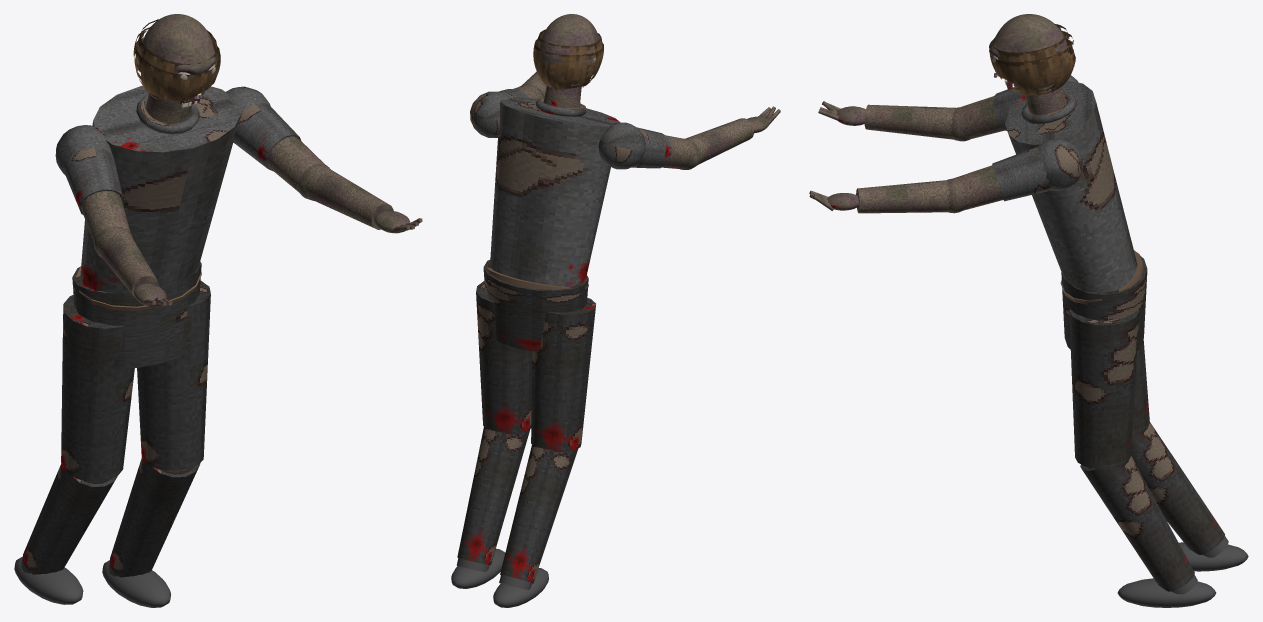
File: Zombie_113.glb
3 renders of one model, left to right at view 1: azimuth 30°, elevation 25°; view 2: azimuth 150°, elevation 25°; view 3: azimuth 270°, elevation 25°, orthographic. The views are drawn at different scales.
Visible parts, largest first — view 1: Zombie_113, object 16, object 10, object 41, object 3, object 40, object 11; view 2: Zombie_113, object 16, object 41, object 3, object 40; view 3: Zombie_113, object 10, object 3, object 16, object 41, object 40.
Part boxes in pixels (left/top/right/bottom): Zombie_113: left=14, top=85, right=324, bottom=607; object 16: left=140, top=14, right=216, bottom=103; object 10: left=305, top=167, right=393, bottom=229; object 41: left=133, top=27, right=220, bottom=102; object 3: left=97, top=229, right=159, bottom=297; object 40: left=135, top=19, right=218, bottom=98; object 11: left=374, top=211, right=410, bottom=233; Zombie_113: left=451, top=83, right=695, bottom=607; object 16: left=539, top=14, right=600, bottom=83; object 41: left=533, top=39, right=603, bottom=90; object 3: left=685, top=118, right=753, bottom=164; object 40: left=535, top=29, right=602, bottom=88; Zombie_113: left=953, top=75, right=1248, bottom=607; object 10: left=856, top=180, right=950, bottom=213; object 3: left=864, top=104, right=955, bottom=139; object 16: left=989, top=14, right=1068, bottom=89; object 41: left=989, top=31, right=1075, bottom=95; object 40: left=992, top=24, right=1073, bottom=92.
Bounding box in the file's own units: 0.7718 × 1.79 × 1.24.
16 materials, 6 textured.
